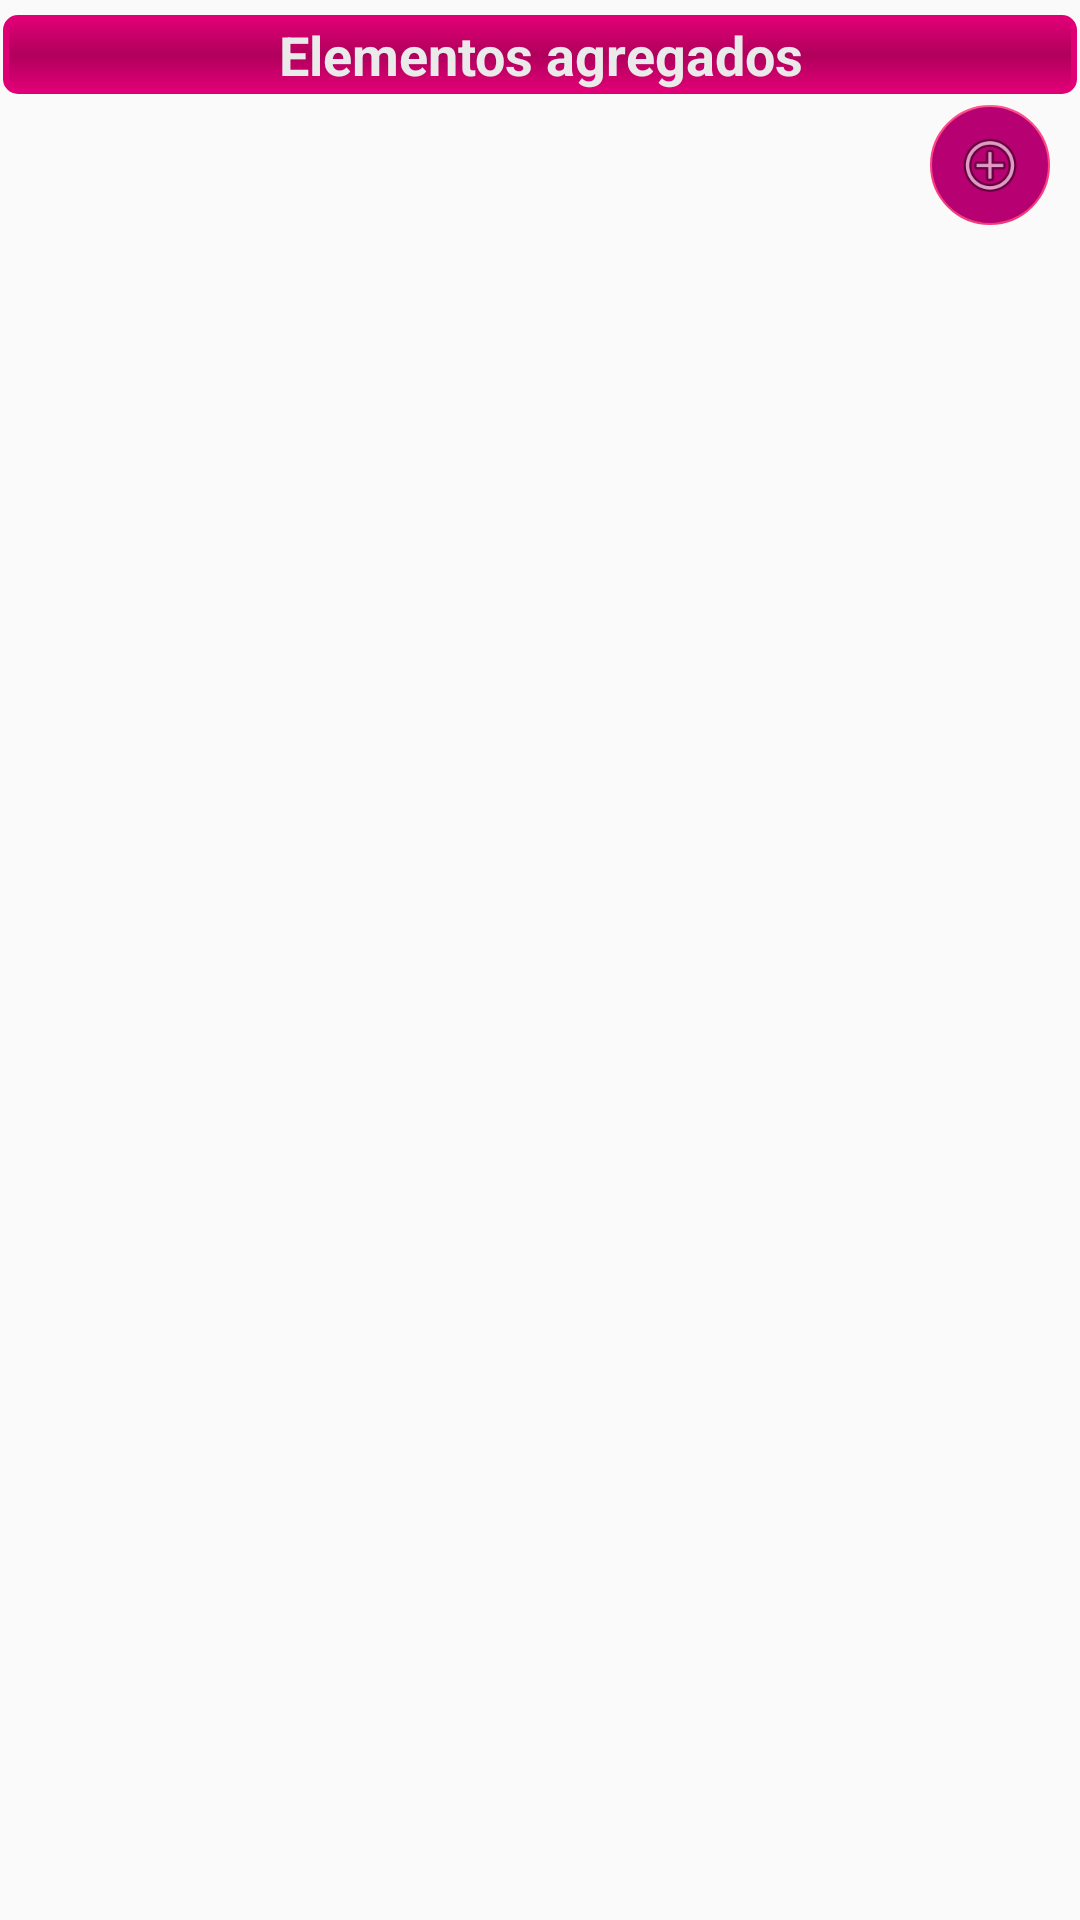

Icons on this 1080w x 1920h Android screen, each with its box as bbox=(x1, y1, x2, y2):
add: bbox=(930, 105, 1050, 225)
